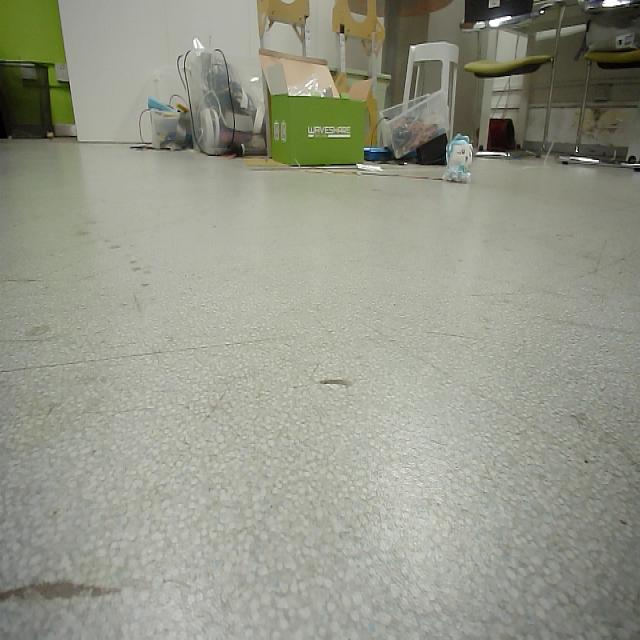xiaoba: (444, 129, 476, 187)
